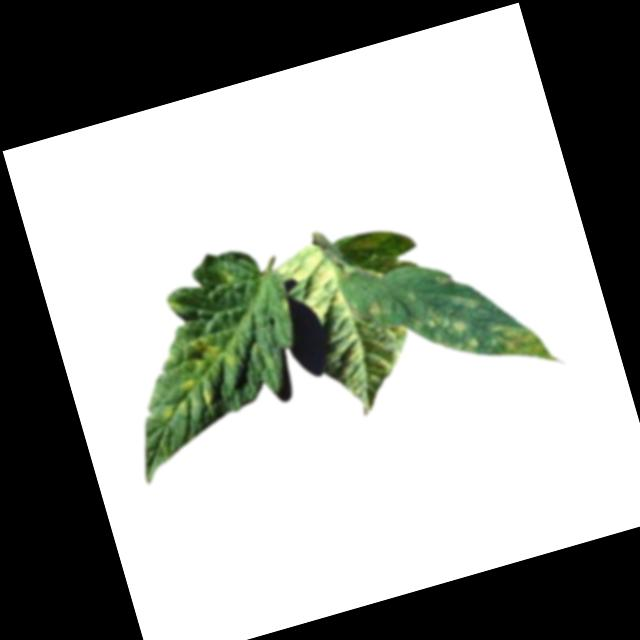Leaf_Mold: (274, 238, 351, 334), (486, 312, 552, 373), (154, 373, 217, 422), (408, 301, 468, 343), (186, 328, 234, 377), (450, 332, 482, 356), (360, 295, 390, 320)
